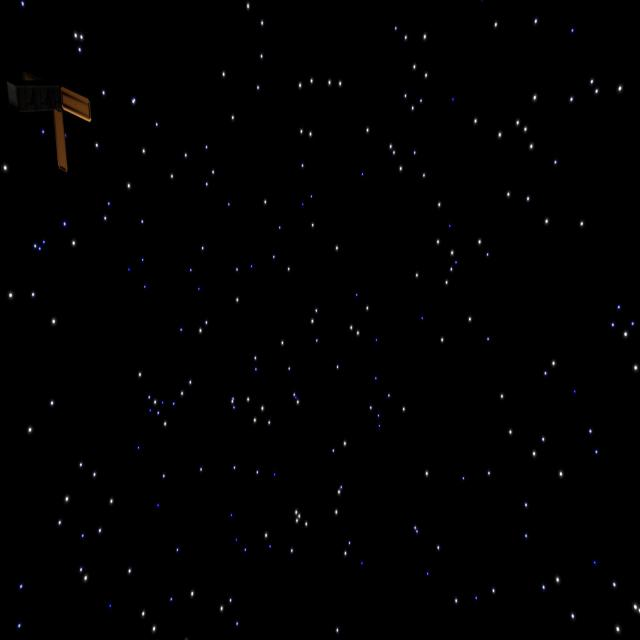satellite: (0, 69, 97, 166)
